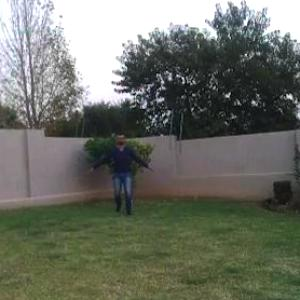land: (80, 124, 151, 220)
